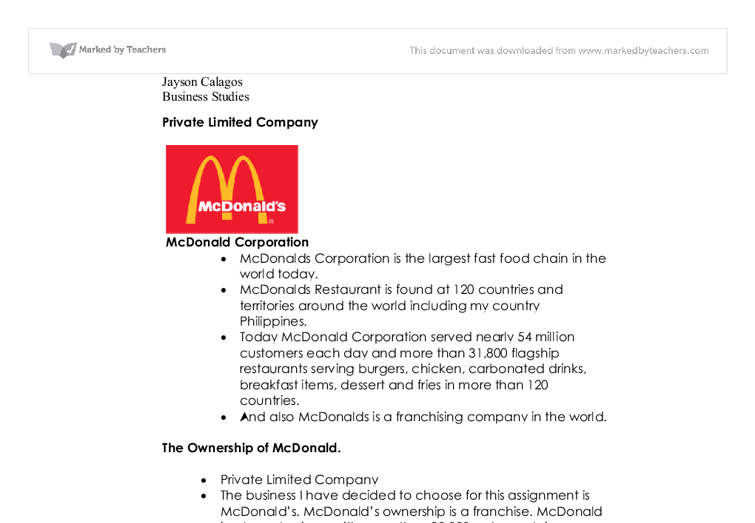mcdonalds: (180, 152, 270, 225)
